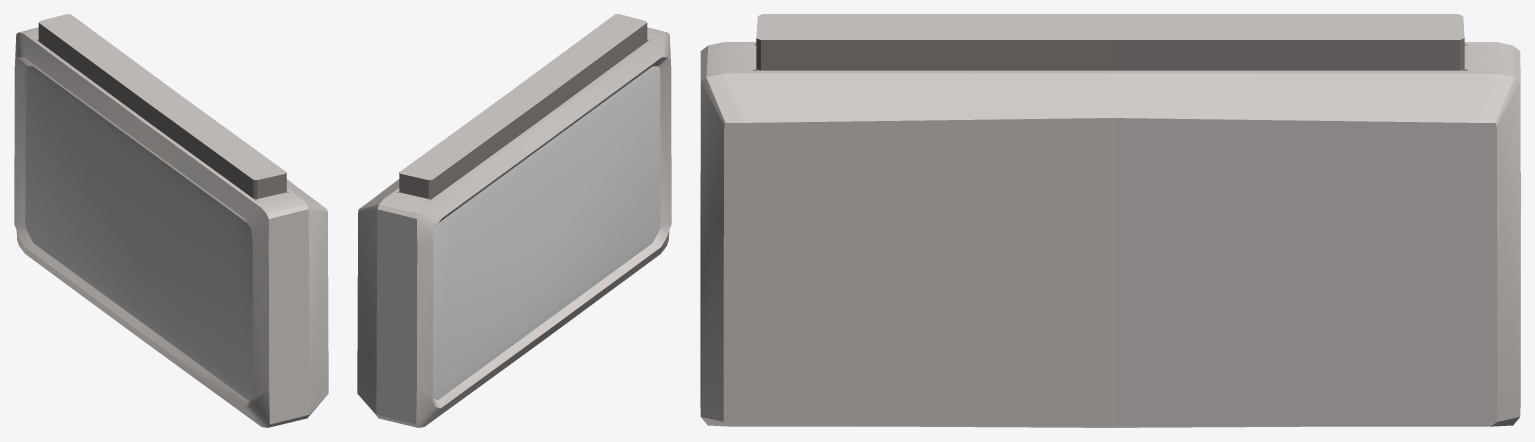
The model's file is LabTablet_ReadoutV4.fbx.
The picture shows the model from 3 angles, left to right: view 1: azimuth 30°, elevation 25°; view 2: azimuth 150°, elevation 25°; view 3: azimuth 270°, elevation 25°; orthographic projection. The views are drawn at different scales.
Visible parts, largest first — view 1: Tablet_SensorReadout_V4; view 2: Tablet_SensorReadout_V4; view 3: Tablet_SensorReadout_V4.
Part boxes in pixels (x1,y1,x2,y2): Tablet_SensorReadout_V4: (14,14,328,427); Tablet_SensorReadout_V4: (357,14,671,427); Tablet_SensorReadout_V4: (700,14,1520,427).
Size of the model in its own units: 0.0692 by 0.2084 by 0.4001.
